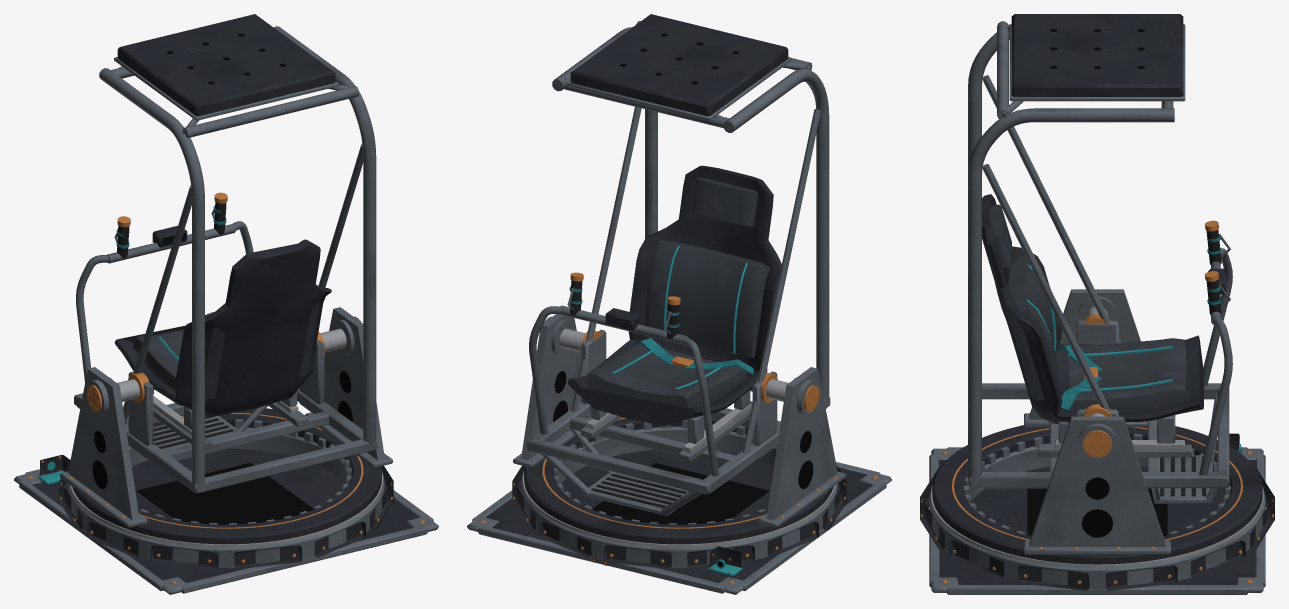
File: turret_seat_2.glb
The picture shows the model from 3 angles, left to right: view 1: azimuth 30°, elevation 25°; view 2: azimuth 150°, elevation 25°; view 3: azimuth 270°, elevation 25°; orthographic projection. The views are drawn at different scales.
Parts seen in each view (by area): view 1: Cradle, Base, YawStage, ShellFrame, Backrest, Cushion; view 2: Cradle, Base, YawStage, ShellFrame, Backrest, Cushion; view 3: Cradle, YawStage, Base, Cushion, ShellFrame, Backrest.
Part boxes in pixels (x1,y1,x2,y2): Cradle: [74, 14, 377, 493]; Base: [14, 426, 438, 594]; YawStage: [60, 307, 392, 547]; ShellFrame: [114, 239, 331, 430]; Backrest: [205, 301, 320, 398]; Cushion: [133, 329, 188, 408]; Cradle: [527, 14, 830, 515]; Base: [467, 426, 891, 594]; YawStage: [513, 314, 845, 547]; ShellFrame: [567, 165, 781, 443]; Backrest: [645, 177, 770, 357]; Cushion: [586, 338, 753, 408]; Cradle: [968, 14, 1232, 503]; YawStage: [931, 289, 1263, 567]; Base: [920, 433, 1274, 594]; Cushion: [1056, 338, 1190, 423]; ShellFrame: [982, 194, 1203, 443]; Backrest: [989, 204, 1058, 400].
Size of the model in its own units: 1.01 by 1.5 by 1.01.
11 materials, 8 textured.
